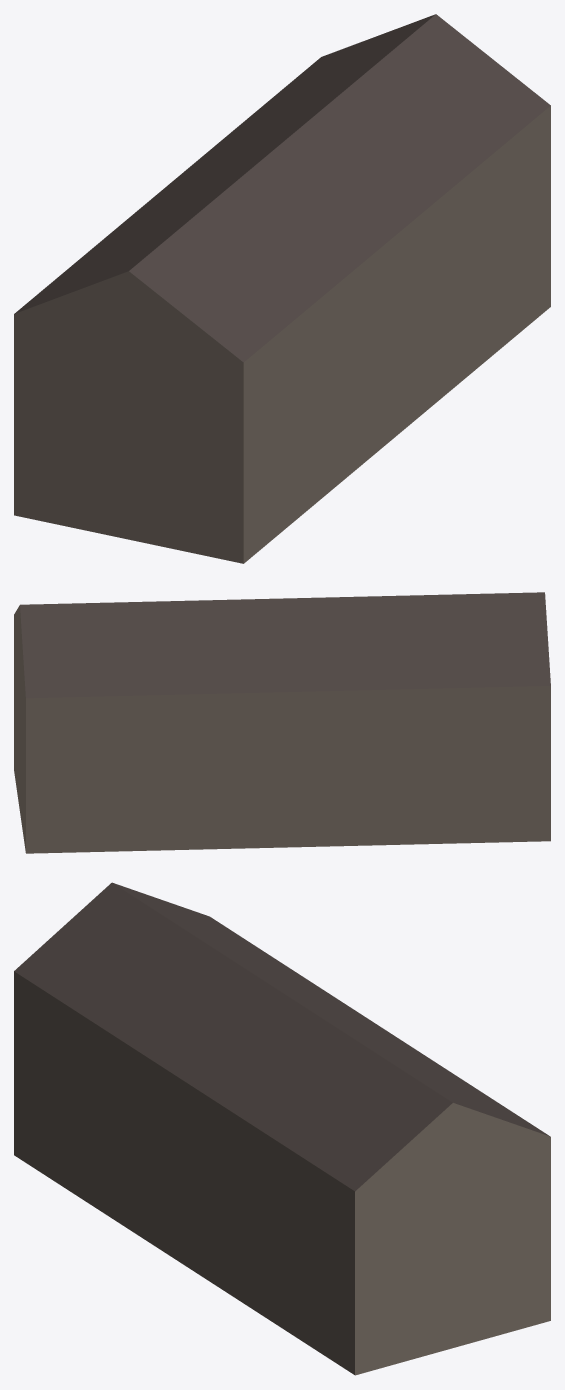
3 views of the same model, one above another, from view 1: azimuth 30°, elevation 25°; view 2: azimuth 150°, elevation 25°; view 3: azimuth 270°, elevation 25° (orthographic). The views are drawn at different scales.
Visible parts, largest first — view 1: HP-w369237957; view 2: HP-w369237957; view 3: HP-w369237957.
Boxes of the visible parts, x1=… form: HP-w369237957: x1=14, y1=14, x2=550, y2=563; HP-w369237957: x1=14, y1=592, x2=550, y2=853; HP-w369237957: x1=14, y1=882, x2=550, y2=1375.
Size of the model in its own units: 28.84 by 12 by 23.8.
